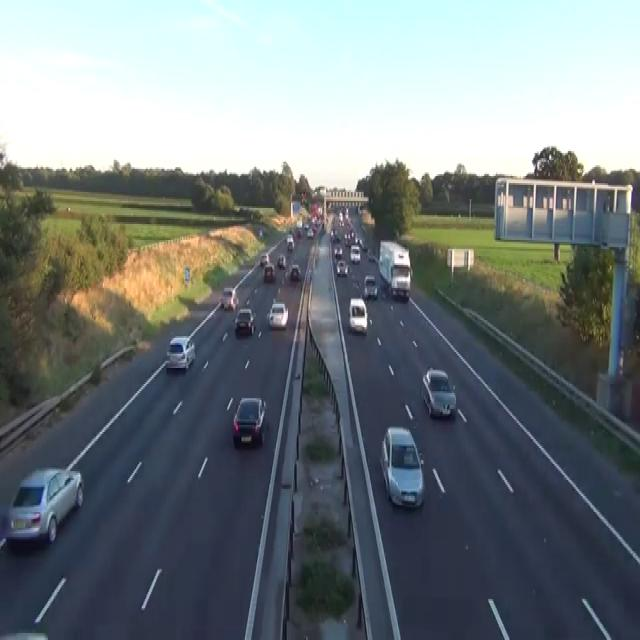Car: (6, 466, 84, 546), (379, 425, 425, 508), (232, 396, 266, 448), (421, 368, 456, 418), (165, 336, 195, 370), (390, 263, 411, 299), (347, 297, 367, 332), (233, 308, 256, 334), (268, 300, 288, 329), (219, 286, 238, 310), (363, 274, 378, 298), (0, 631, 48, 638), (263, 263, 275, 281), (289, 263, 300, 281), (336, 260, 348, 276), (350, 244, 360, 263), (344, 230, 355, 246), (259, 250, 269, 266), (356, 237, 368, 250), (330, 229, 340, 242), (286, 234, 294, 250), (277, 254, 286, 268), (367, 249, 377, 261), (292, 226, 302, 238), (334, 245, 342, 258), (306, 228, 314, 238), (259, 228, 268, 236), (344, 233, 350, 245), (296, 217, 302, 227), (328, 202, 335, 210), (303, 222, 309, 230), (362, 242, 368, 250), (330, 229, 334, 240), (309, 267, 312, 277), (259, 228, 262, 236)
Truck: (378, 240, 412, 300)
